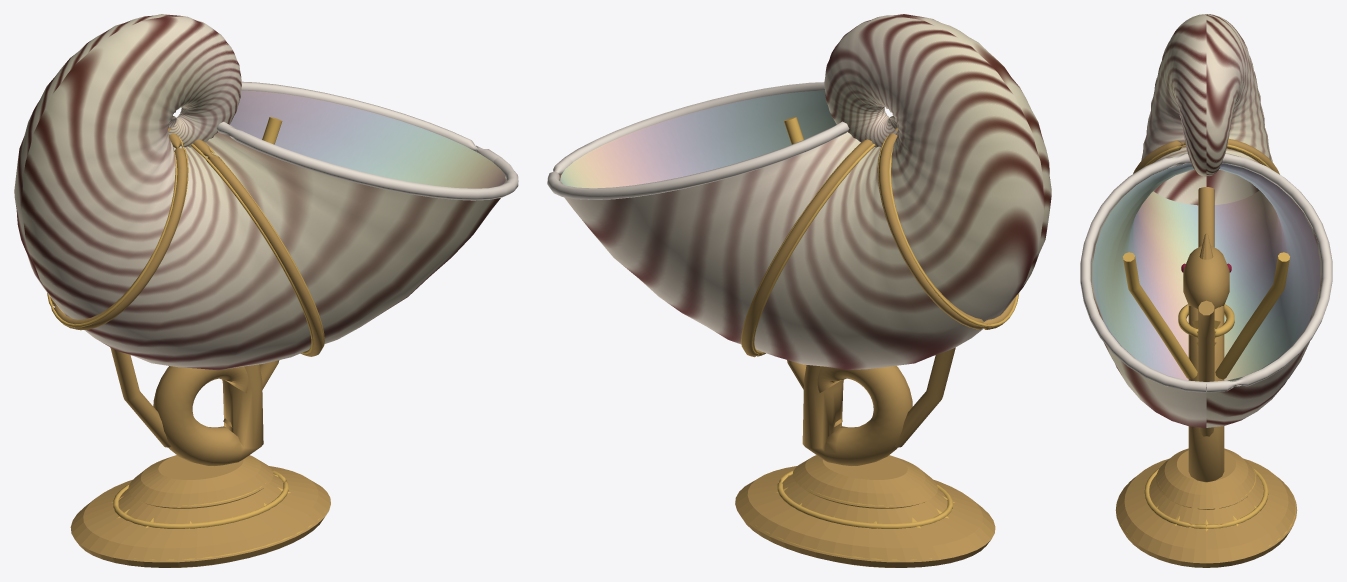
The model's file is nautilus_cup.fbx.
3 renders of one model, left to right at view 1: azimuth 30°, elevation 25°; view 2: azimuth 150°, elevation 25°; view 3: azimuth 270°, elevation 25°, orthographic. The views are drawn at different scales.
Parts seen in each view (by area): view 1: Body; view 2: Body; view 3: Body.
Boxes of the visible parts, box(x1,y1,x2,y2) form: Body: box(14, 14, 518, 567); Body: box(547, 14, 1051, 567); Body: box(1080, 14, 1332, 567).
Size of the model in its own units: 0.2086 by 0.2163 by 0.1041.
